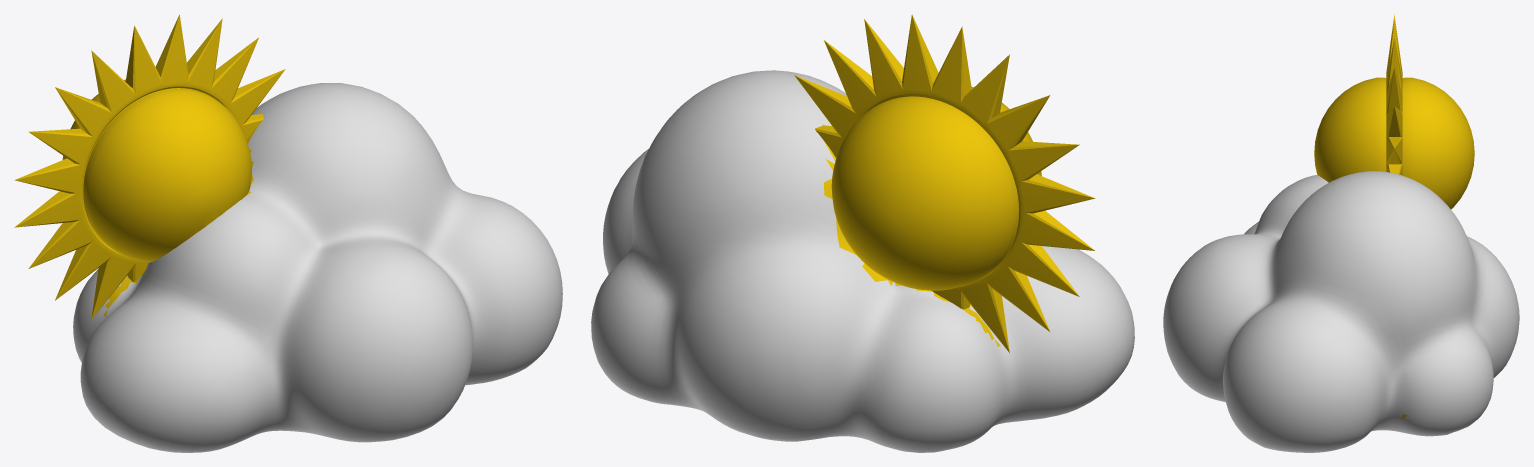
3 renders of one model, left to right at view 1: azimuth 30°, elevation 25°; view 2: azimuth 150°, elevation 25°; view 3: azimuth 270°, elevation 25°, orthographic. The views are drawn at different scales.
Parts seen in each view (by area): view 1: partial_sun.1; view 2: partial_sun.1; view 3: partial_sun.1.
Boxes of the visible parts, x1,y1,x2,y2 form: partial_sun.1: (14, 14, 562, 452); partial_sun.1: (591, 14, 1134, 452); partial_sun.1: (1163, 14, 1519, 452).
Bounding box in the file's own units: 17.48 × 12.7 × 13.36.
